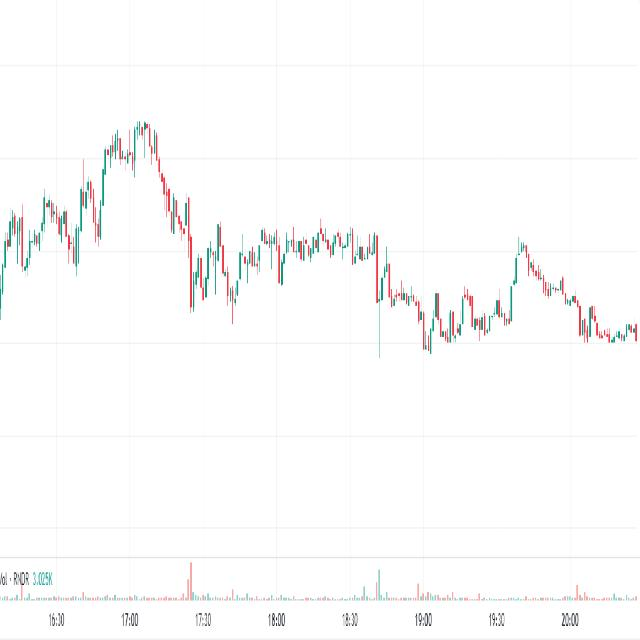rectangle: (277, 214, 380, 278)
